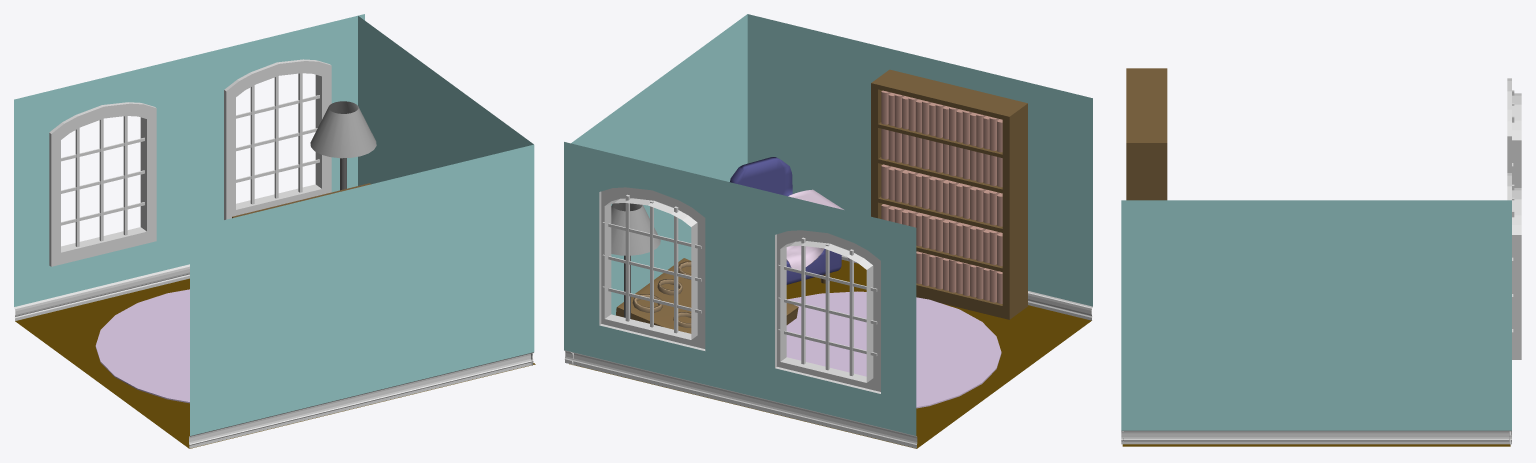
The model's file is Room.fbx.
3 views of the same model, side by side, from view 1: azimuth 30°, elevation 25°; view 2: azimuth 150°, elevation 25°; view 3: azimuth 270°, elevation 25° (orthographic). The views are drawn at different scales.
Parts seen in each view (by area): view 1: Wall2, Window_Wall1, Window_Wall, Wall1, pCylinder1, Floor, Lamp; view 2: Wall2, Window_Wall1, Window_Wall, Bookshelf, Wall1, pCylinder1, Floor, Chair, Table, Lamp; view 3: Wall1, Bookshelf, Window_Wall, Window_Wall1, Floor.
Part boxes in pixels (x1,y1,x2,y2): Wall2: (189,144,534,448); Window_Wall1: (14,57,189,320); Window_Wall: (189,14,364,265); Wall1: (358,16,533,365); pCylinder1: (95,289,189,403); Floor: (15,278,535,448); Lamp: (310,101,376,190); Wall2: (747,14,1092,320); Window_Wall1: (739,185,917,448); Window_Wall: (564,142,741,405); Bookshelf: (871,69,1027,319); Wall1: (571,14,747,365); pCylinder1: (786,291,1001,408); Floor: (569,260,1091,448); Chair: (730,157,855,284); Table: (616,258,798,333); Lamp: (611,203,660,318); Wall1: (1121,200,1511,444); Bookshelf: (1126,68,1167,200); Window_Wall: (1507,173,1521,445); Window_Wall1: (1507,78,1521,187); Floor: (1122,444,1510,446).
Size of the model in its own units: 129 by 77.82 by 115.
